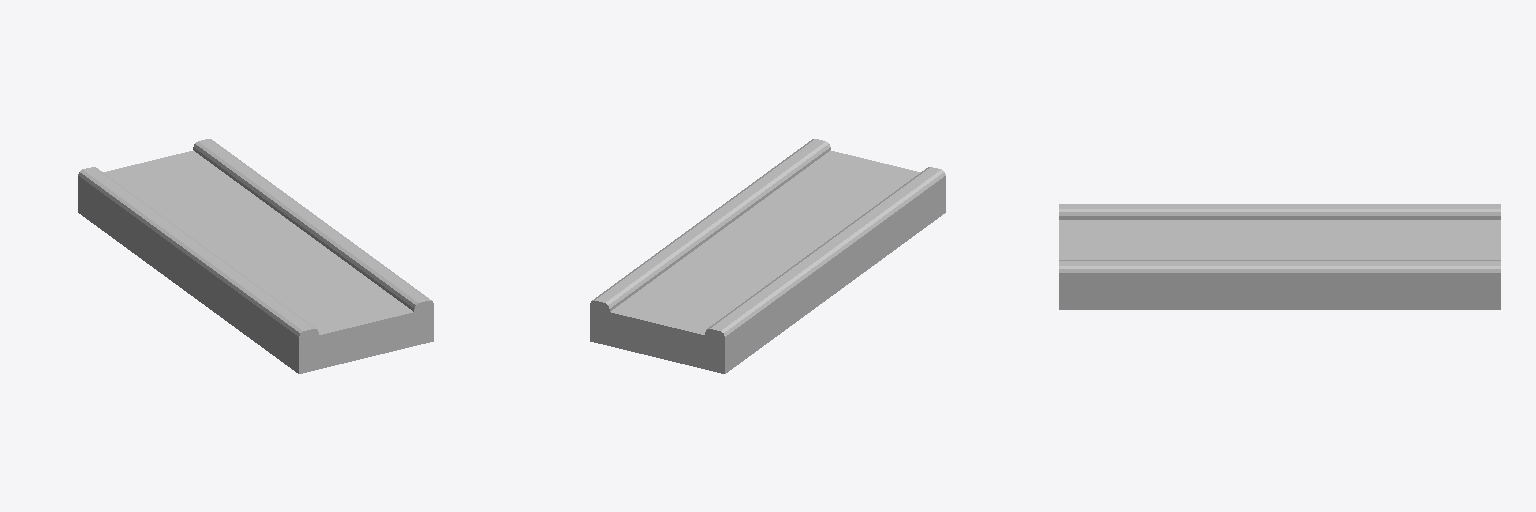
Rendered from PLATAFORMA_LISA_escalada.obj.
3 renders of one model, left to right at view 1: azimuth 30°, elevation 25°; view 2: azimuth 150°, elevation 25°; view 3: azimuth 270°, elevation 25°, orthographic.
Parts seen in each view (by area): view 1: pasted__pCube1 group3; view 2: pasted__pCube1 group3; view 3: pasted__pCube1 group3.
Boxes of the visible parts, x1=… form: pasted__pCube1 group3: x1=78, y1=139, x2=433, y2=373; pasted__pCube1 group3: x1=590, y1=139, x2=945, y2=373; pasted__pCube1 group3: x1=1059, y1=204, x2=1500, y2=309.
Size of the model in its own units: 212 by 62.9 by 600.